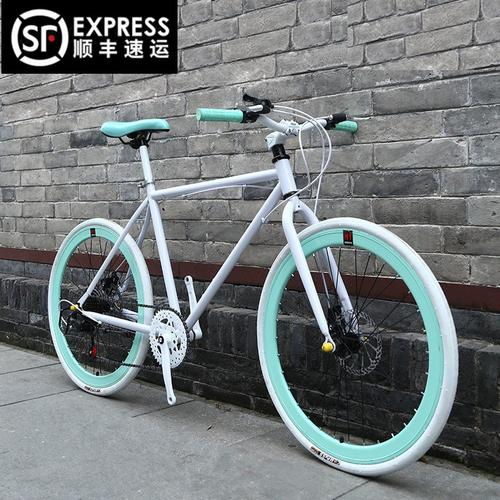单车: (41, 90, 475, 495)
